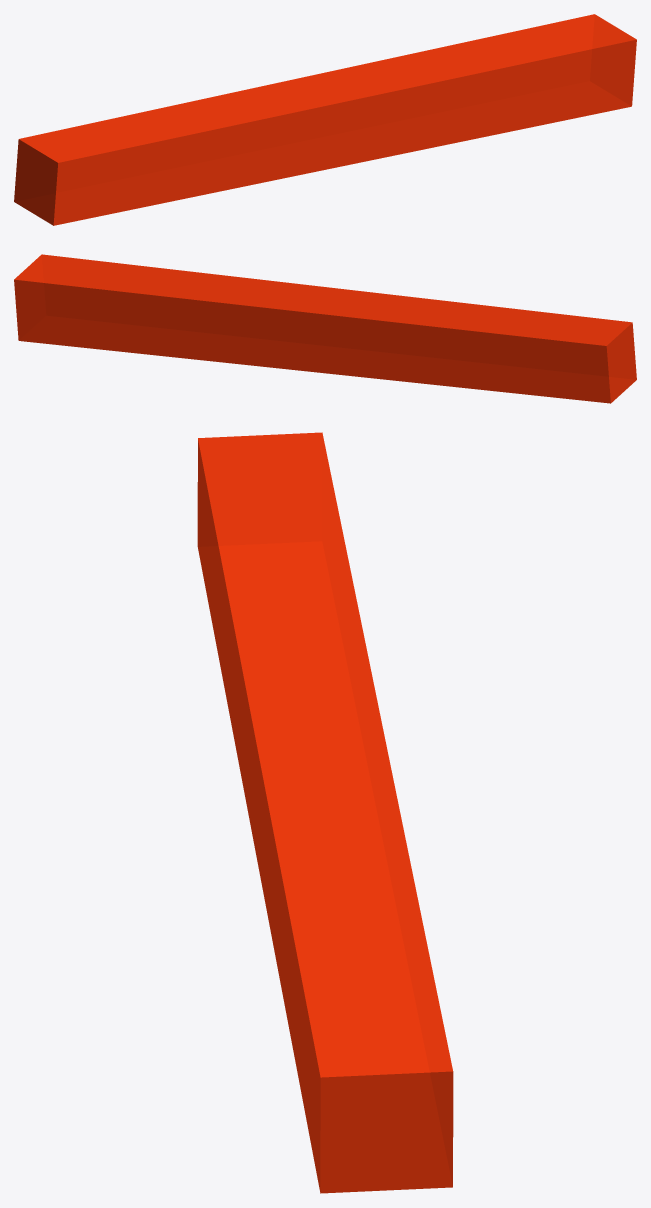
File: Event_421556567_EErechit_79.fbx
The picture shows the model from 3 angles, top to bottom: view 1: azimuth 30°, elevation 25°; view 2: azimuth 150°, elevation 25°; view 3: azimuth 270°, elevation 25°; orthographic projection. The views are drawn at different scales.
Visible parts, largest first — view 1: Model; view 2: Model; view 3: Model.
Part boxes in pixels (x1,y1,x2,y2): Model: (14, 14, 636, 225); Model: (14, 254, 636, 403); Model: (197, 432, 453, 1193).
Bounding box in the file's own units: 0.7631 × 0.1368 × 0.1482.
